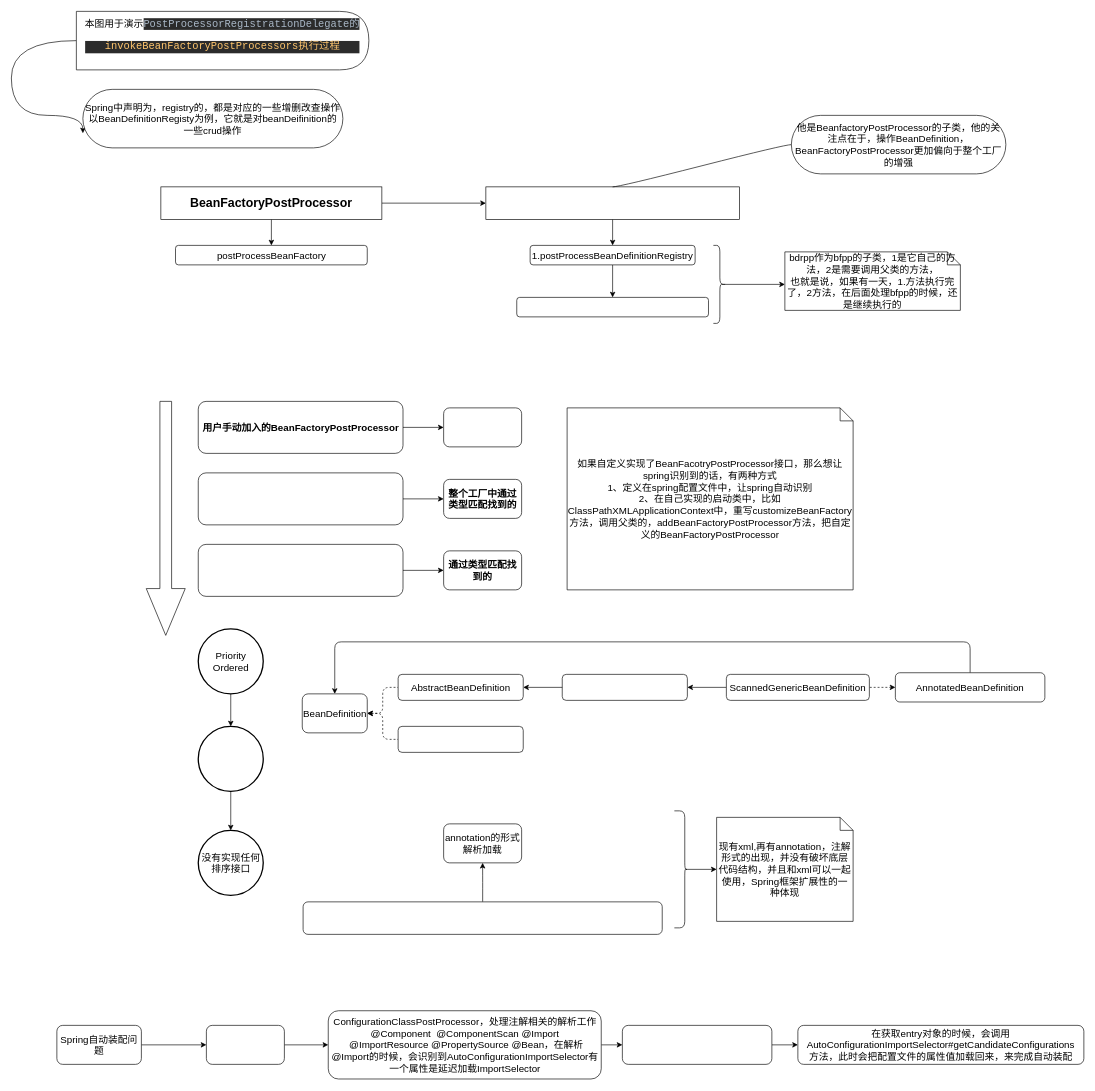
Image size: 1095x1091. Some labels were removed from this diagram. The centre of each missing label's shape, as x and y in pixels:
"2.postProcessBeanFactory" belongs at pixel 612 307.
"BeanDefinitionRegistryPOstProcessor" belongs at pixel 612 202.
"bfpp" belongs at pixel 245 1044.
"GenericBeanDefinition" belongs at pixel 624 687.
"Ordered" belongs at pixel 230 758.
"RootBeanDefinition" belongs at pixel 460 739.
"xml配置文件开始进行解析" belongs at pixel 482 917.
"以方法参数的形式注入进来的" belongs at pixel 482 427.
"在延迟加载的时候，会调用一个getImports方法，或获取到autoConfigurationEntry的一个对象" belongs at pixel 697 1044.
"实现了BeanDefinitionRegistryPostProcessor接口的类" belongs at pixel 300 498.
"实现了BeanFactoryPostProcessor接口的类" belongs at pixel 300 570.
